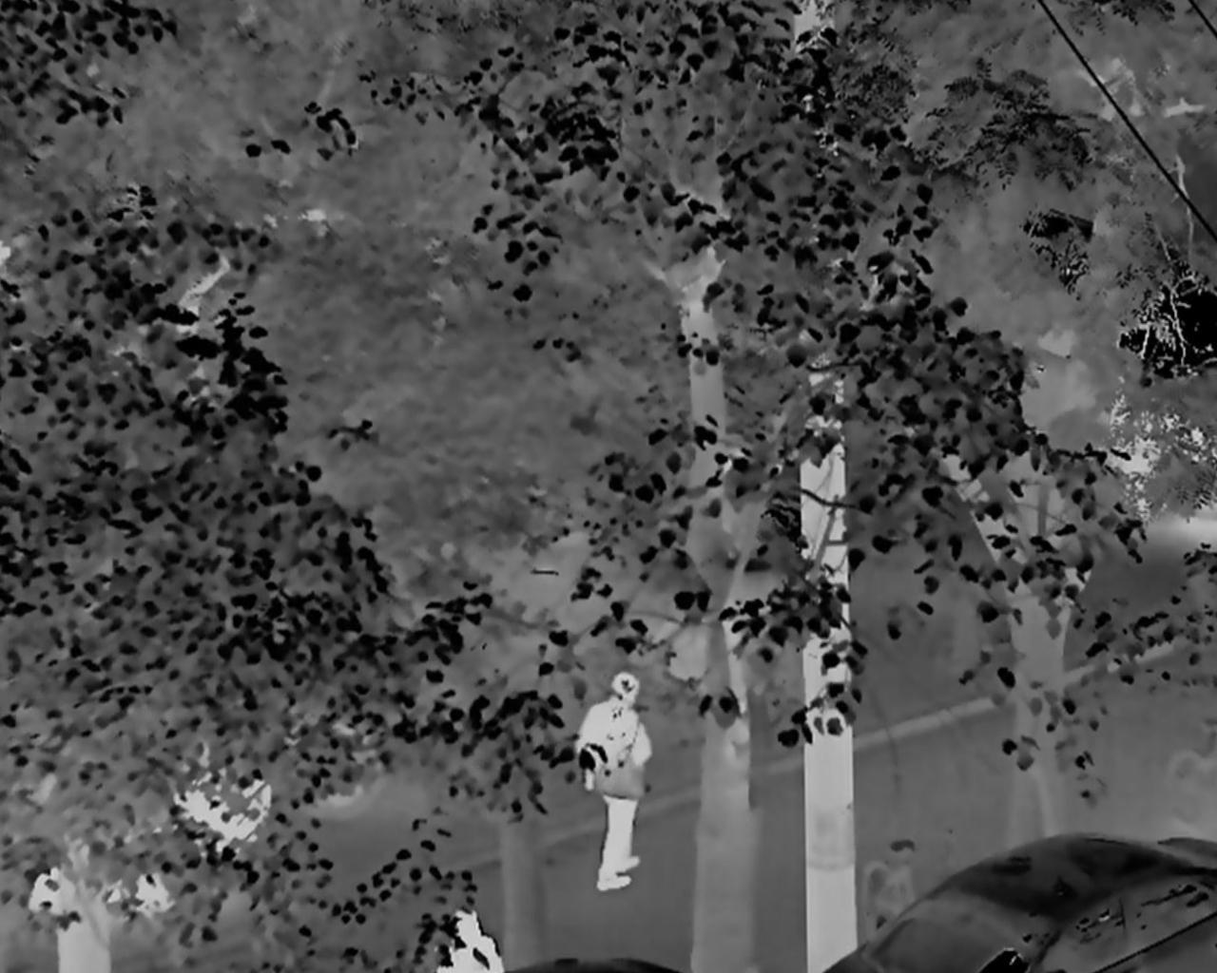person: (572, 671, 650, 890)
